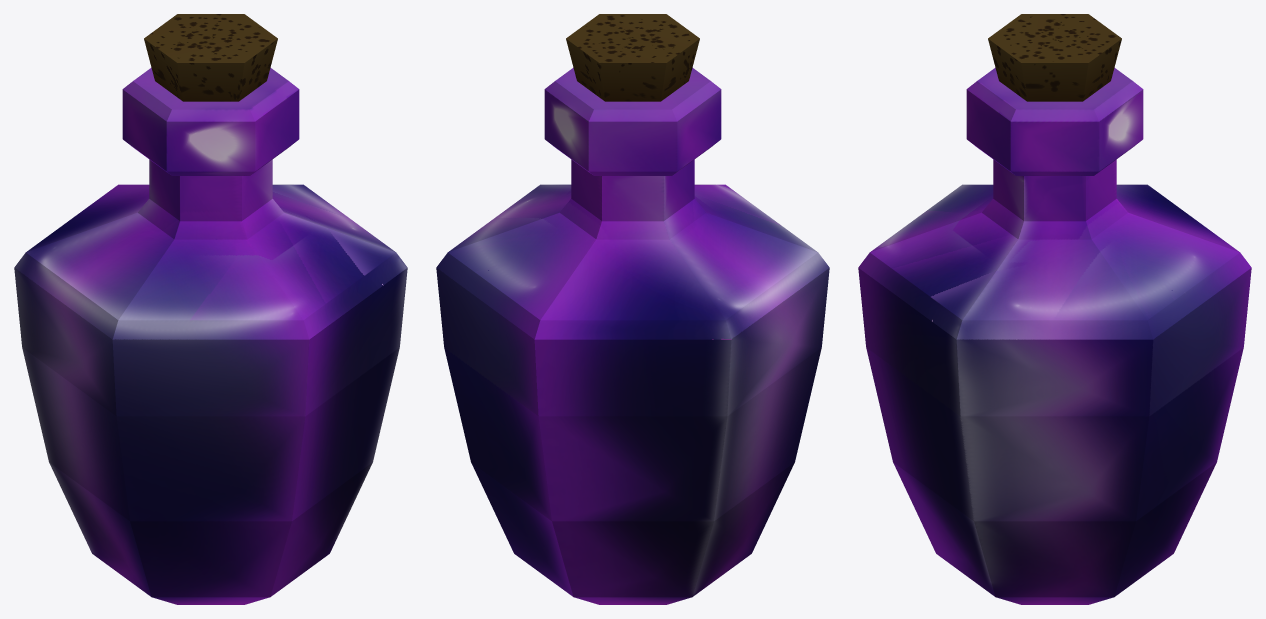
File: shield.obj
3 views of the same model, side by side, from view 1: azimuth 30°, elevation 25°; view 2: azimuth 150°, elevation 25°; view 3: azimuth 270°, elevation 25° (orthographic).
Visible parts, largest first — view 1: Circle.001; view 2: Circle.001; view 3: Circle.001.
Part boxes in pixels (bbox=[...]): Circle.001: bbox=[14, 14, 407, 604]; Circle.001: bbox=[436, 14, 829, 604]; Circle.001: bbox=[858, 14, 1251, 604].
Bounding box in the file's own units: 0.1436 × 0.2519 × 0.1658.
